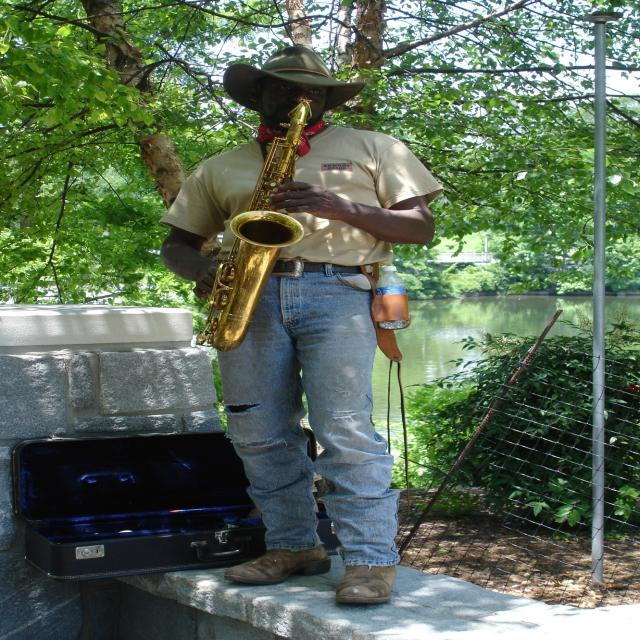saxophone: (195, 94, 319, 357)
